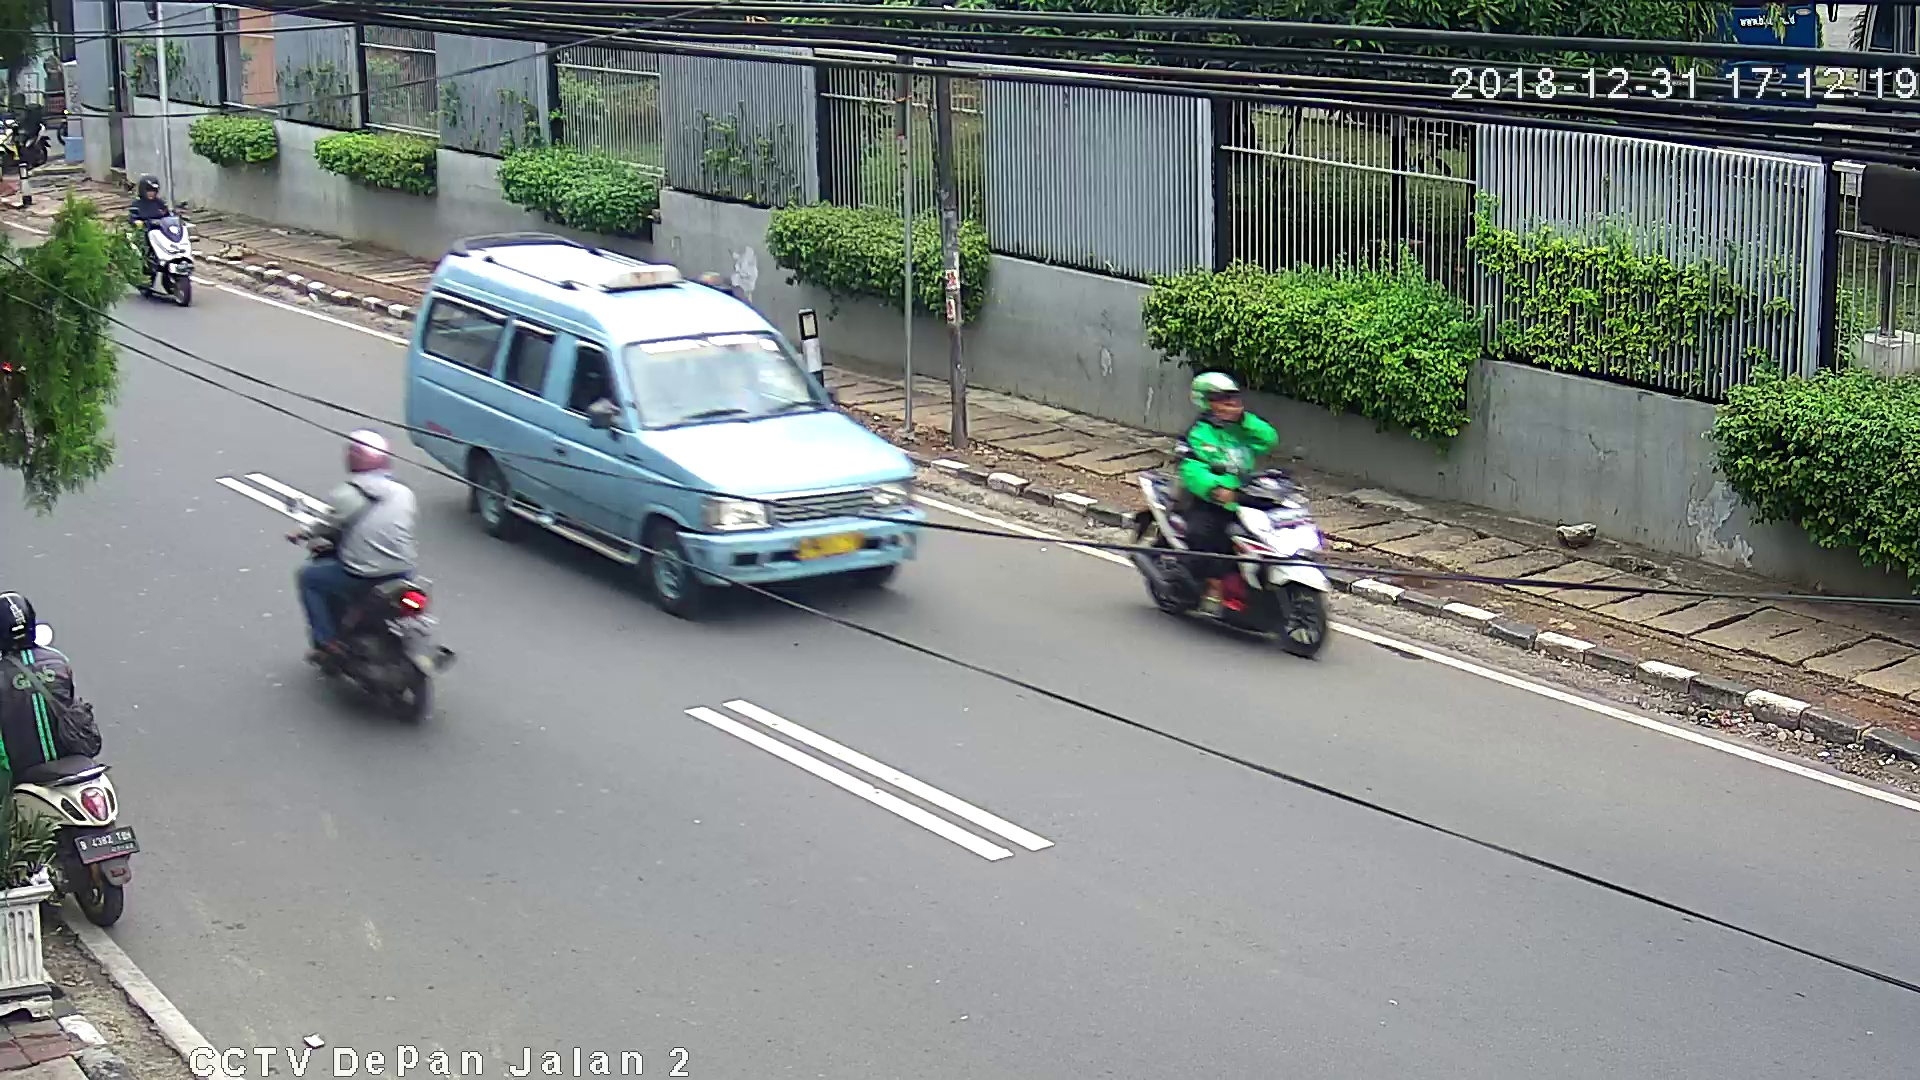motorcycle: (401, 215, 934, 617), (1124, 368, 1335, 669), (285, 421, 456, 740), (1, 589, 150, 942), (107, 174, 203, 316)
